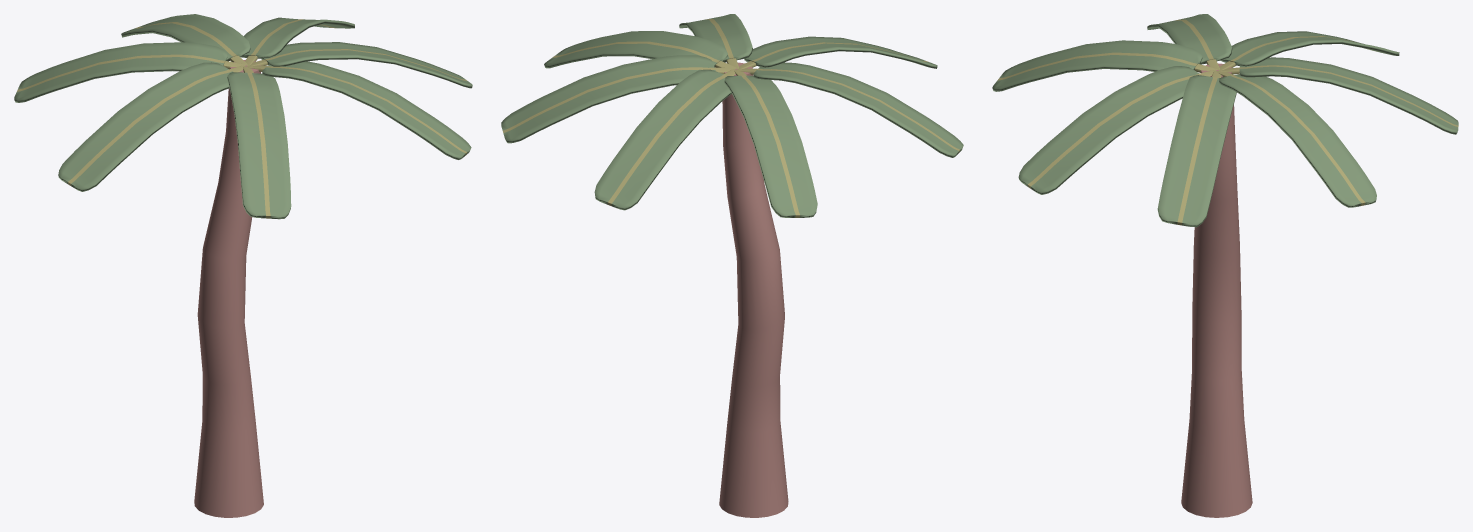
Rendered from coconut tree.fbx.
The picture shows the model from 3 angles, left to right: view 1: azimuth 30°, elevation 25°; view 2: azimuth 150°, elevation 25°; view 3: azimuth 270°, elevation 25°; orthographic projection. The views are drawn at different scales.
Visible parts, largest first — view 1: pCylinder4, pCube36, pCube37, pCube35, pCube31, pCube32, pCube34, pCube33; view 2: pCylinder4, pCube34, pCube35, pCube33, pCube36, pCube32, pCube37, pCube31; view 3: pCylinder4, pCube31, pCube32, pCube33, pCube37, pCube34, pCube35, pCube36.
Part boxes in pixels (x1,y1,x2,y2): pCylinder4: (194, 60, 263, 517); pCube36: (58, 62, 244, 191); pCube37: (227, 66, 291, 219); pCube35: (14, 42, 245, 102); pCube31: (246, 61, 471, 159); pCube32: (247, 42, 472, 88); pCube34: (121, 14, 250, 65); pCube33: (240, 17, 354, 65); pCylinder4: (719, 62, 788, 517); pCube34: (594, 69, 735, 210); pCube35: (724, 69, 817, 217); pCube33: (501, 55, 735, 143); pCube36: (736, 62, 963, 157); pCube32: (544, 31, 736, 68); pCube37: (737, 36, 937, 69); pCube31: (679, 14, 752, 68); pCylinder4: (1181, 63, 1252, 517); pCube31: (1018, 66, 1216, 194); pCube32: (1157, 70, 1236, 227); pCube33: (1216, 71, 1376, 207); pCube37: (992, 40, 1217, 91); pCube34: (1218, 57, 1458, 134); pCube35: (1219, 31, 1399, 70); pCube36: (1147, 14, 1232, 69).
Size of the model in its own units: 317 by 328 by 309.
